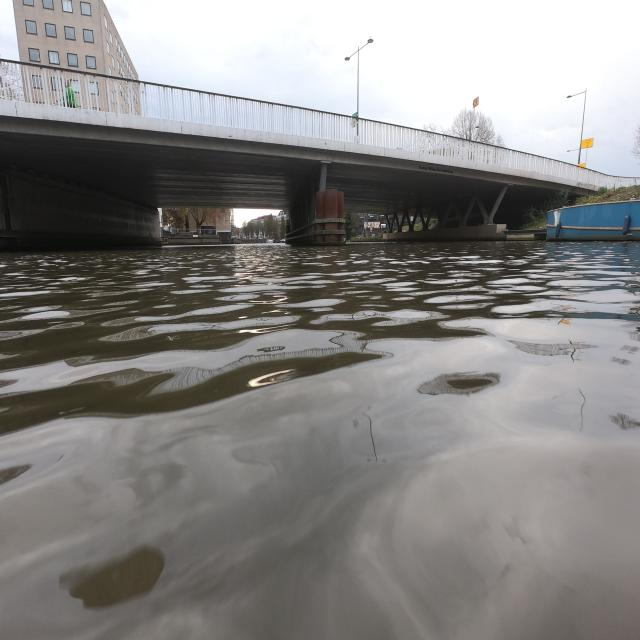boat: (556, 202, 638, 242)
dock: (505, 229, 546, 241)
grass: (576, 185, 640, 204)
sky: (106, 6, 638, 132)
wall: (0, 169, 161, 249), (383, 223, 506, 241)
water: (0, 240, 640, 640)
